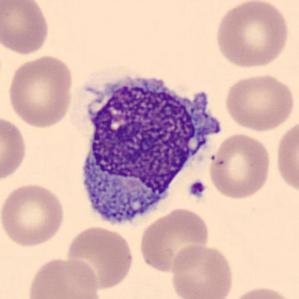Monocyte: (71, 63, 226, 230)
Platelets: (186, 179, 208, 200)
RBC: (212, 0, 292, 70), (6, 53, 75, 128), (138, 206, 212, 274), (64, 224, 135, 291), (221, 71, 296, 132), (0, 181, 67, 248), (207, 132, 273, 200), (170, 243, 236, 299), (25, 255, 102, 299), (0, 0, 52, 57), (0, 112, 29, 184), (274, 117, 299, 196), (225, 284, 297, 299)
